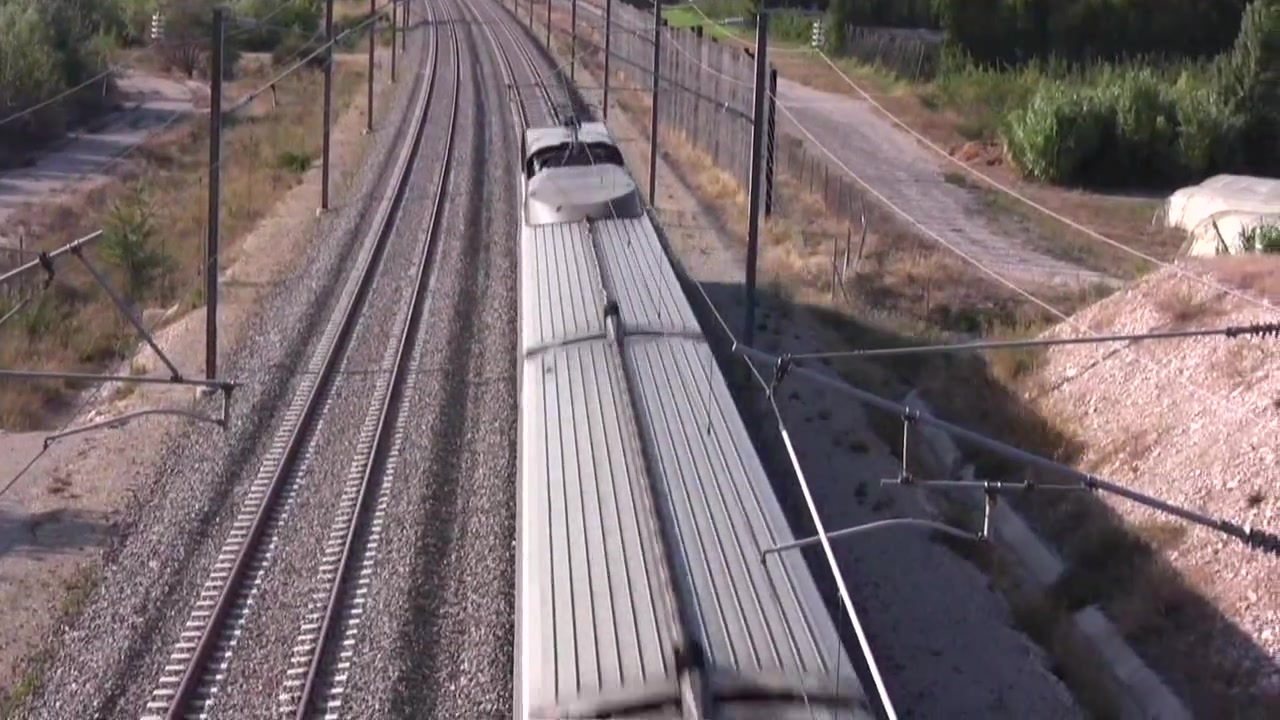train: (508, 113, 886, 720)
